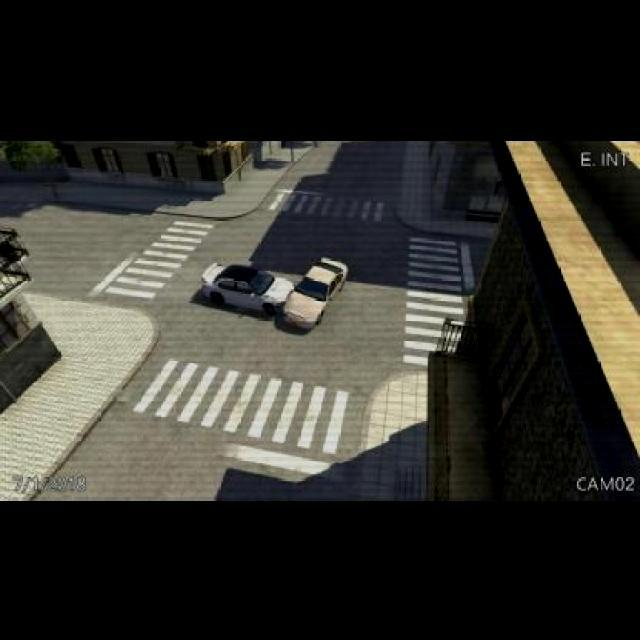accident: (200, 260, 346, 333)
